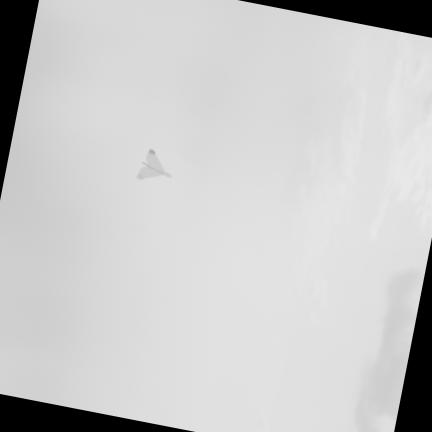Shahed: (137, 149, 170, 179)
